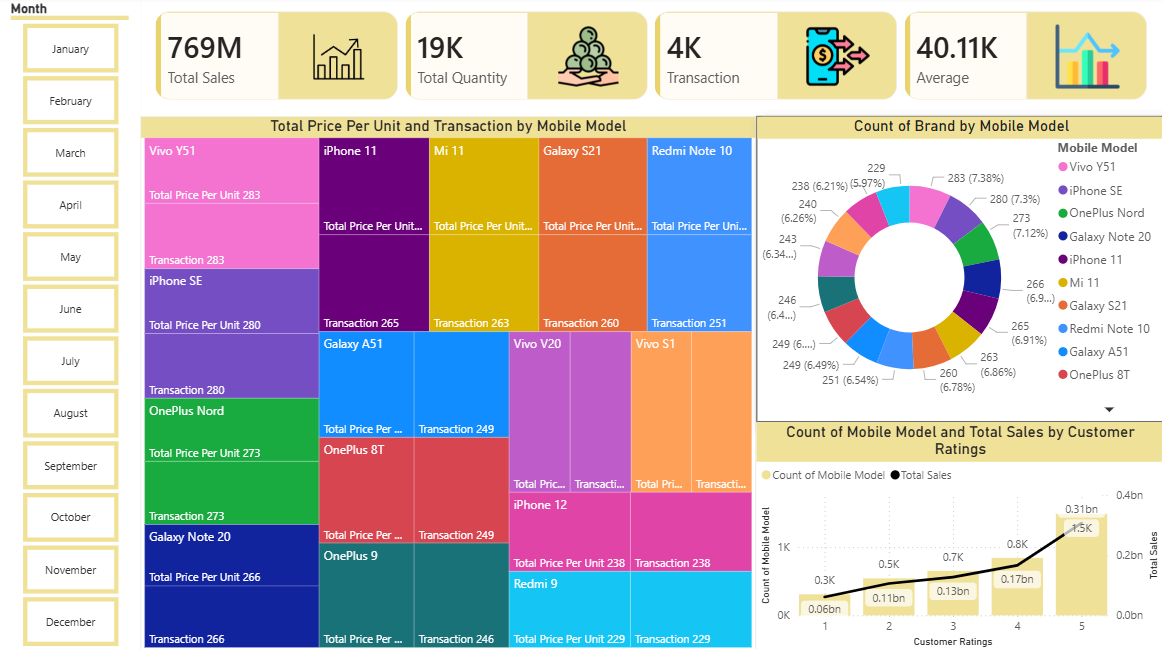

The page's visual inventory and layout, read from the dashboard file:
{"tool":"powerbi","page":{"name":"Product Performance Dashboard","canvas":[1280,720],"ordinal":1},"visuals":[{"type":"treemap","title":"Total Price Per Unit and Transaction by Mobile Model","fields":{"Group":["Sales Data.Mobile Model"],"Values":["CountNonNull(Sales Data.Price Per Unit)","Sales Data.Transaction"]},"box":[155.1,131.7,676.5,588.7],"z":0},{"type":"cardVisual","fields":{"Data":["Sales Data.Total Sales","Sales Data.Total Quantity","Sales Data.Transaction","Sales Data.Average"]},"box":[155.1,0,1125.2,131.7],"z":1000},{"type":"slicer","fields":{"Values":["Sales Data.Date.Variation.Date Hierarchy.Month"]},"box":[0,0,155.1,720.4],"z":2000},{"type":"donutChart","fields":{"Category":["Sales Data.Mobile Model"],"Y":["CountNonNull(Sales Data.Brand)"]},"box":[831.6,131.7,448.7,336.2],"z":3000},{"type":"lineStackedColumnComboChart","fields":{"Y":["CountNonNull(Sales Data.Mobile Model)"],"Y2":["Sales Data.Total Sales"],"Category":["Sales Data.Customer Ratings"]},"box":[832,468,448,252],"z":4000}]}

Visuals, with their boxes in screenshot pixels (x1, y1, x2, y2), scaled from the page's 1280x720 canvas onto the 1162x649 screenshot:
"Total Price Per Unit and Transaction by Mobile Model" treemap: (x1=141, y1=119, x2=755, y2=648)
cardVisual - Sales Data.Total Sales x Sales Data.Total Quantity: (x1=141, y1=0, x2=1161, y2=119)
slicer - Sales Data.Date.Variation.Date Hierarchy.Month: (x1=0, y1=0, x2=141, y2=648)
donutChart - Sales Data.Mobile Model x CountNonNull(Sales Data.Brand): (x1=755, y1=119, x2=1161, y2=422)
lineStackedColumnComboChart - CountNonNull(Sales Data.Mobile Model) x Sales Data.Total Sales: (x1=755, y1=422, x2=1161, y2=648)
